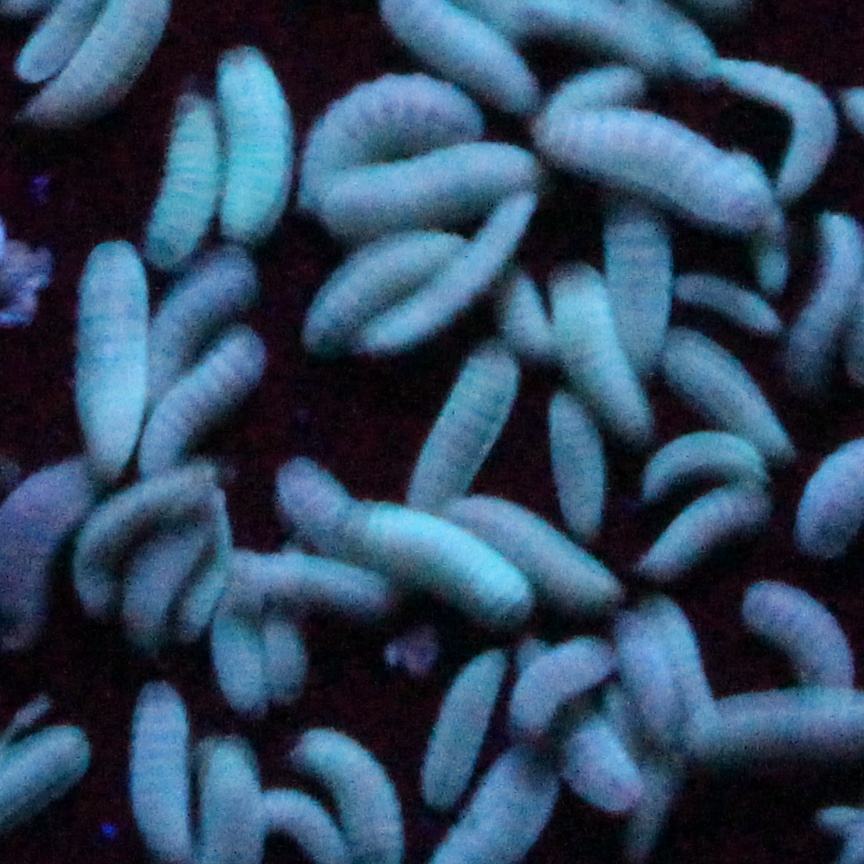larve: (526, 91, 786, 248), (338, 490, 536, 626), (62, 224, 162, 468), (404, 327, 524, 521), (539, 258, 655, 442), (137, 323, 267, 475), (76, 467, 213, 611), (211, 45, 302, 253), (123, 512, 249, 645), (300, 60, 476, 155), (418, 642, 513, 810), (731, 573, 860, 694), (314, 151, 522, 225), (636, 476, 768, 586), (534, 381, 612, 543), (797, 201, 863, 385), (197, 553, 393, 614), (300, 240, 461, 312), (512, 629, 613, 741), (155, 97, 216, 256), (634, 428, 772, 497), (669, 264, 780, 343), (617, 611, 680, 738), (207, 615, 265, 711), (259, 615, 313, 695)
